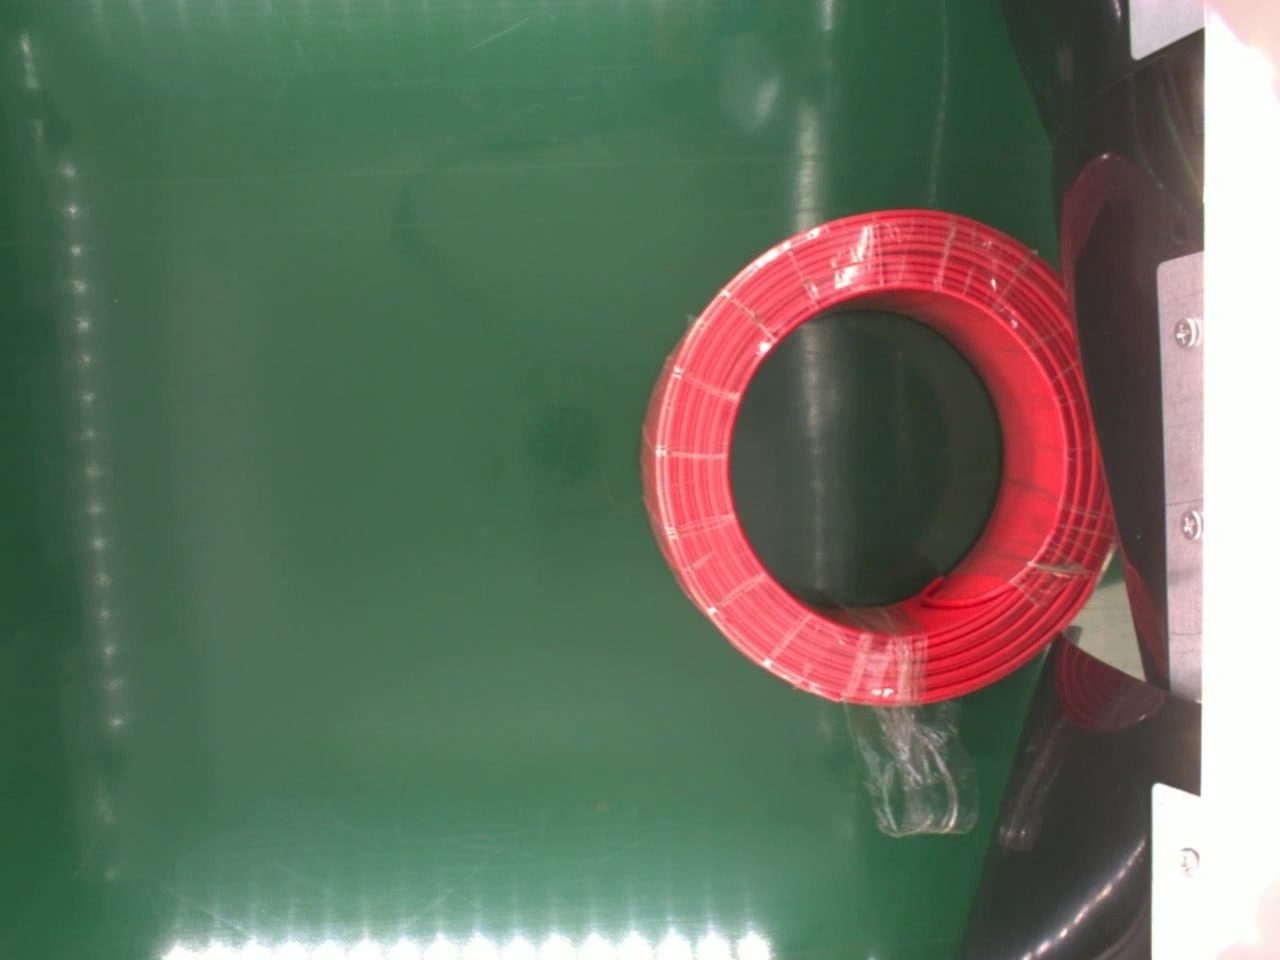red: (634, 205, 1111, 711)
